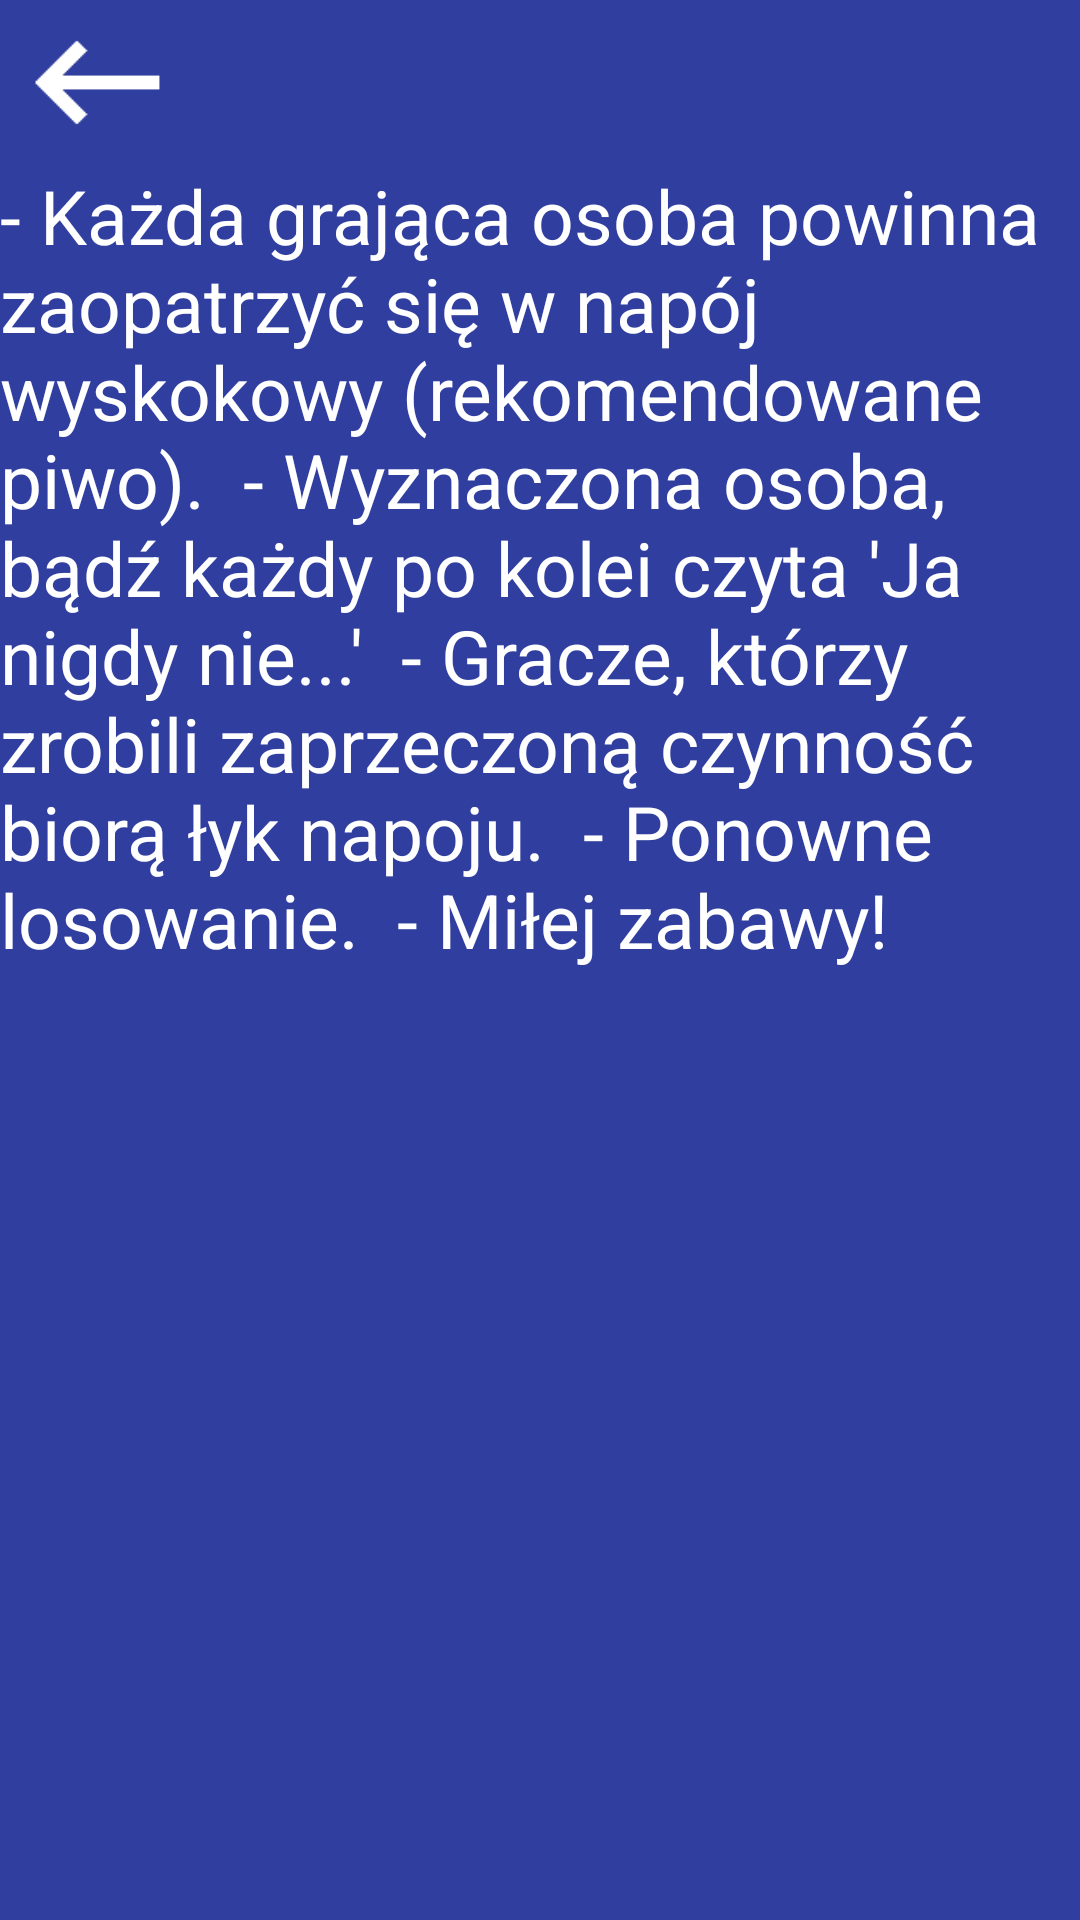

Screen size 1080px×1920px. Icon name, then its box in pixels as (x1,y1,x2,y2):
return: (35,41,160,124)
